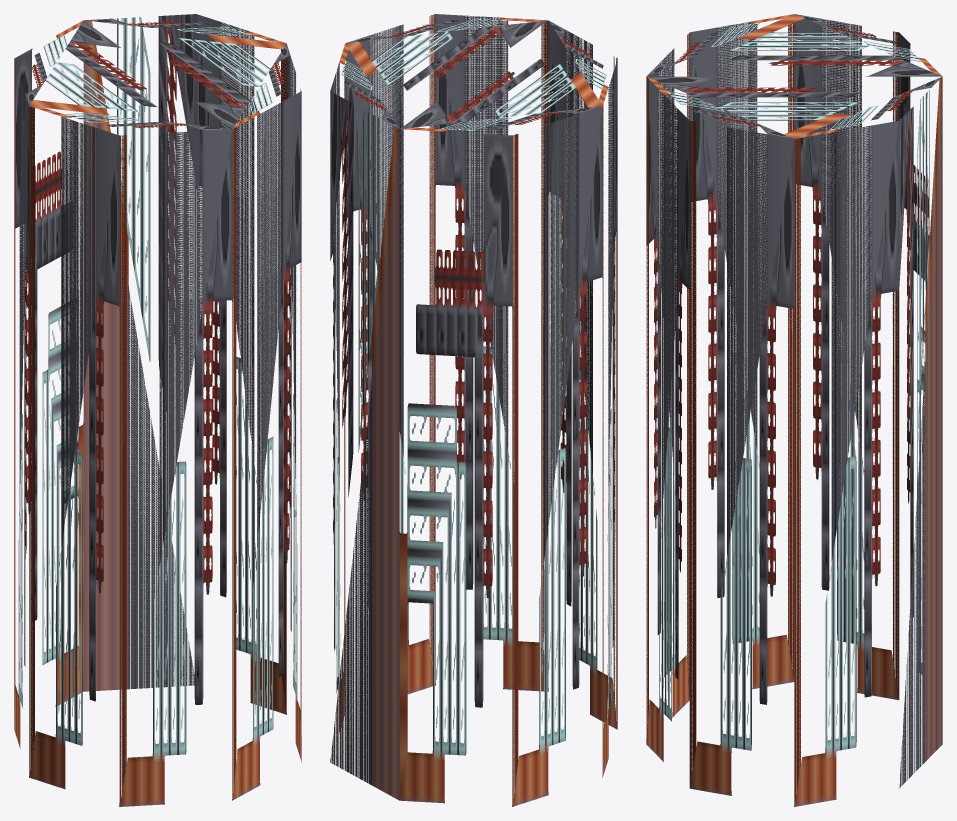
Rendered from fluid.obj.
3 renders of one model, left to right at view 1: azimuth 30°, elevation 25°; view 2: azimuth 150°, elevation 25°; view 3: azimuth 270°, elevation 25°, orthographic.
Visible parts, largest first — view 1: Fluid; view 2: Fluid; view 3: Fluid.
Part boxes in pixels (<box>): Fluid: <box>14,14,301,806</box>; Fluid: <box>330,14,617,806</box>; Fluid: <box>646,14,942,806</box>.
Size of the model in its own units: 0.6022 by 1.5 by 0.6028.
